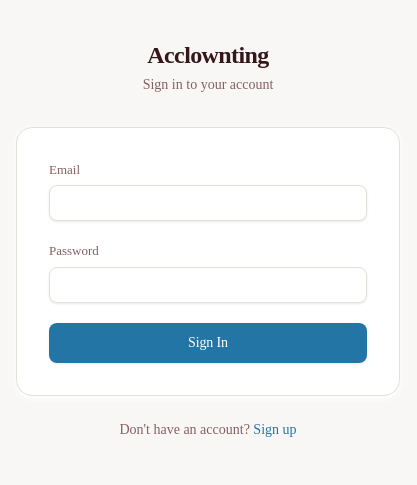
Scenario: LoginPage › shows validation error for short password
The width and height of the screenshot is (417, 485).
Type "user@test.com" into the field labelled "Email".
click(208, 203); type("user@test.com")  # box [49,185,367,221]
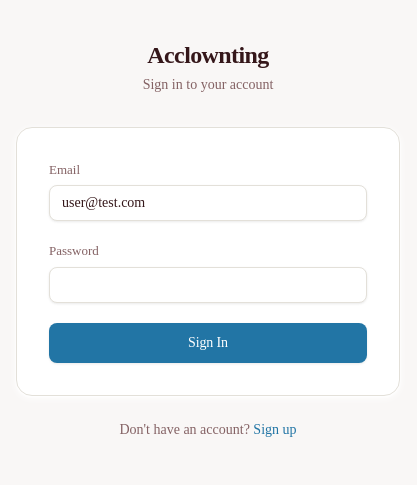
Type "12345" into the password field labelled "Password".
click(208, 284); type("12345")  # box [49,266,367,302]
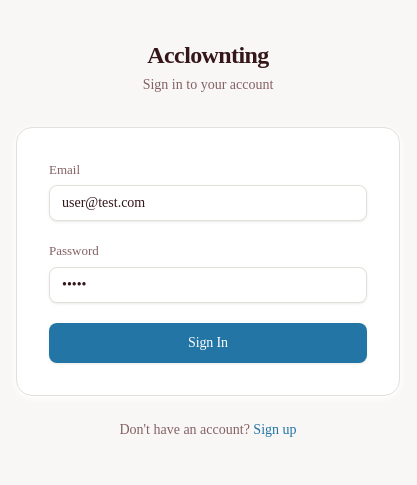
Submit the form "Sign In", box [49,160,367,362]
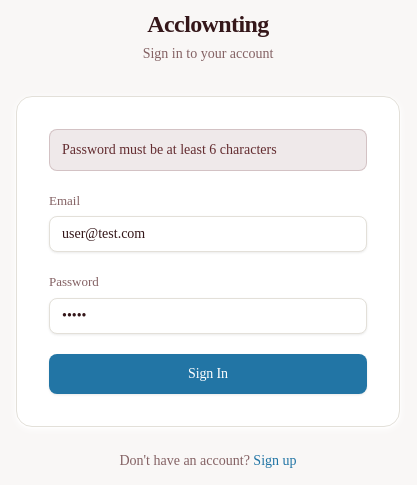
Expected: the text "Password must be at least 6 characters" is shown, [49,128,367,170]
